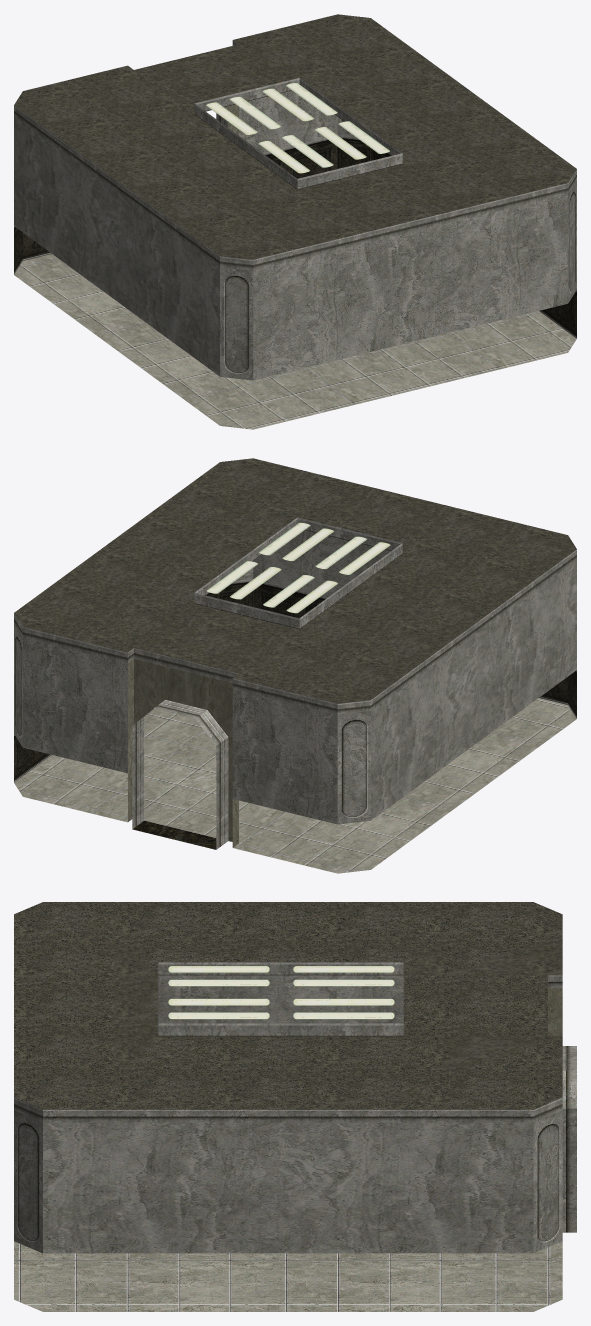
File: mun_tato_guild_commerce_s01_r6_meetingb_mesh_meetingb.fbx
3 renders of one model, top to bottom at view 1: azimuth 30°, elevation 25°; view 2: azimuth 150°, elevation 25°; view 3: azimuth 270°, elevation 25°, orthographic. The views are drawn at different scales.
Visible parts, largest first — view 1: mesh_node; view 2: mesh_node; view 3: mesh_node.
Part boxes in pixels (<box>): mesh_node: <box>14,14,576,429</box>; mesh_node: <box>14,458,576,873</box>; mesh_node: <box>14,902,576,1311</box>.
Bounding box in the file's own units: 8.5 × 4.12 × 9.75.
